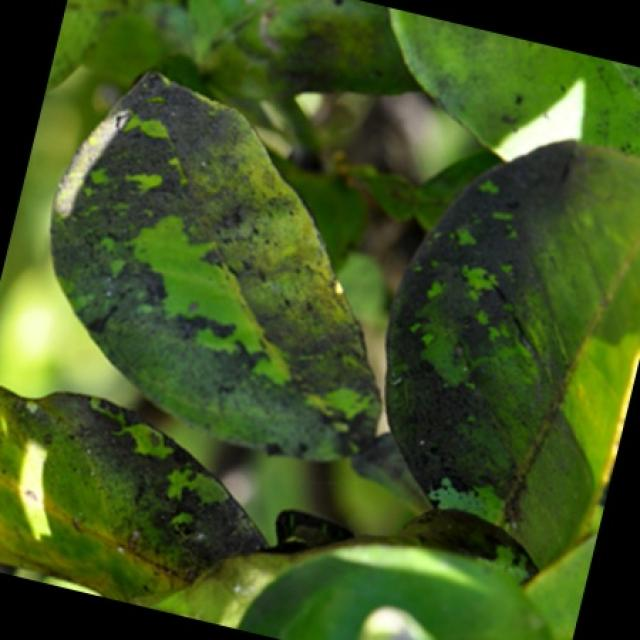Sooty Mold: (47, 66, 383, 464), (381, 137, 639, 570), (0, 371, 270, 606)
